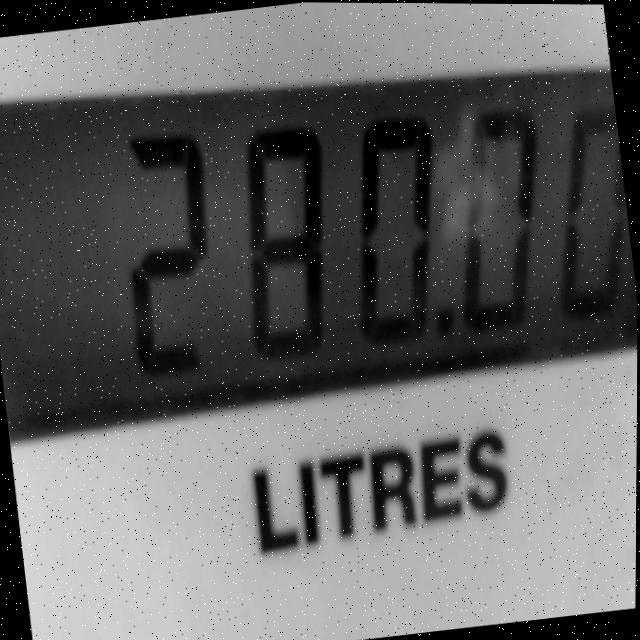.: (432, 296, 455, 353)
0: (336, 107, 471, 376), (439, 79, 560, 343), (548, 101, 639, 344)
2: (91, 107, 246, 411)
8: (226, 102, 359, 387)
